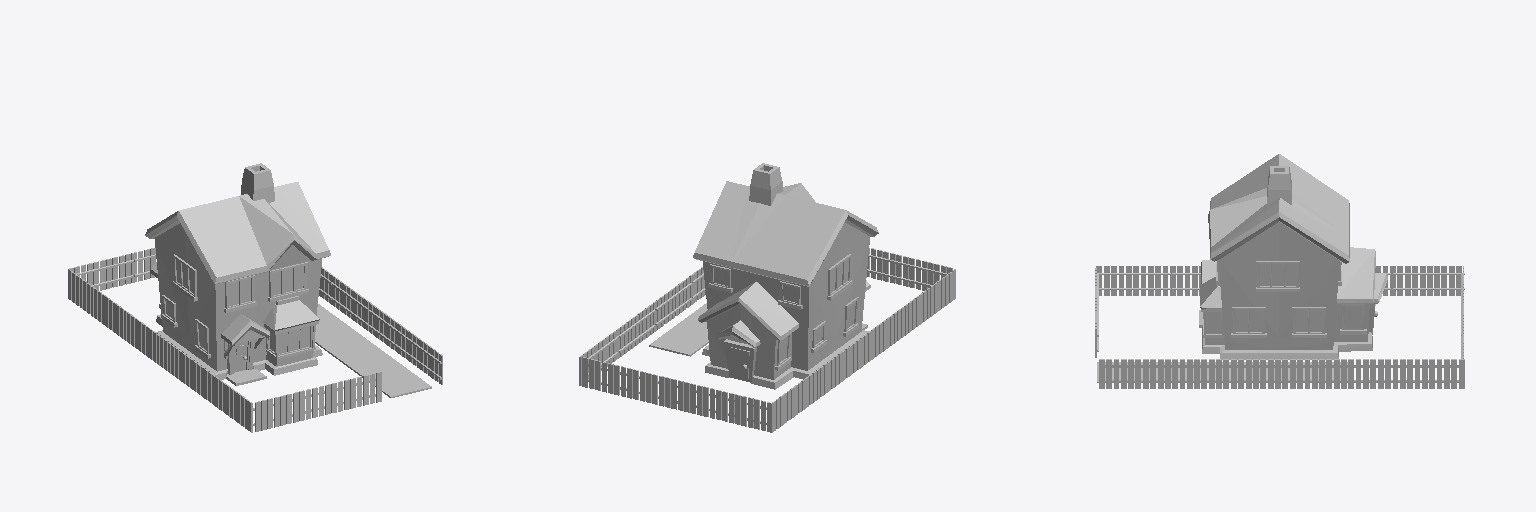
Rendered from House_03.obj.
The picture shows the model from 3 angles: view 1: azimuth 30°, elevation 25°; view 2: azimuth 150°, elevation 25°; view 3: azimuth 270°, elevation 25°; orthographic projection.
Parts seen in each view (by area): view 1: House_03; view 2: House_03; view 3: House_03.
Part boxes in pixels (x1,y1,x2,y2): House_03: (68, 163, 442, 432); House_03: (579, 163, 955, 432); House_03: (1095, 154, 1464, 388).
Size of the model in its own units: 535 by 461 by 887.